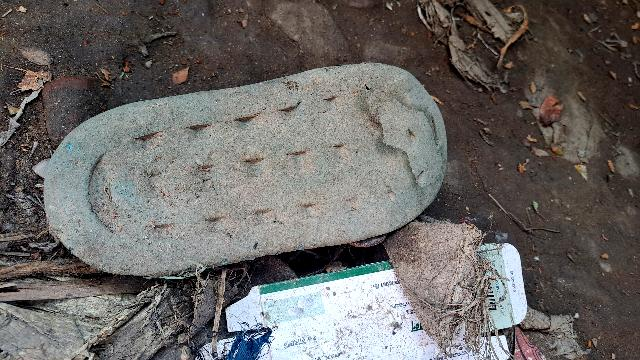sandal: (42, 52, 440, 295)
